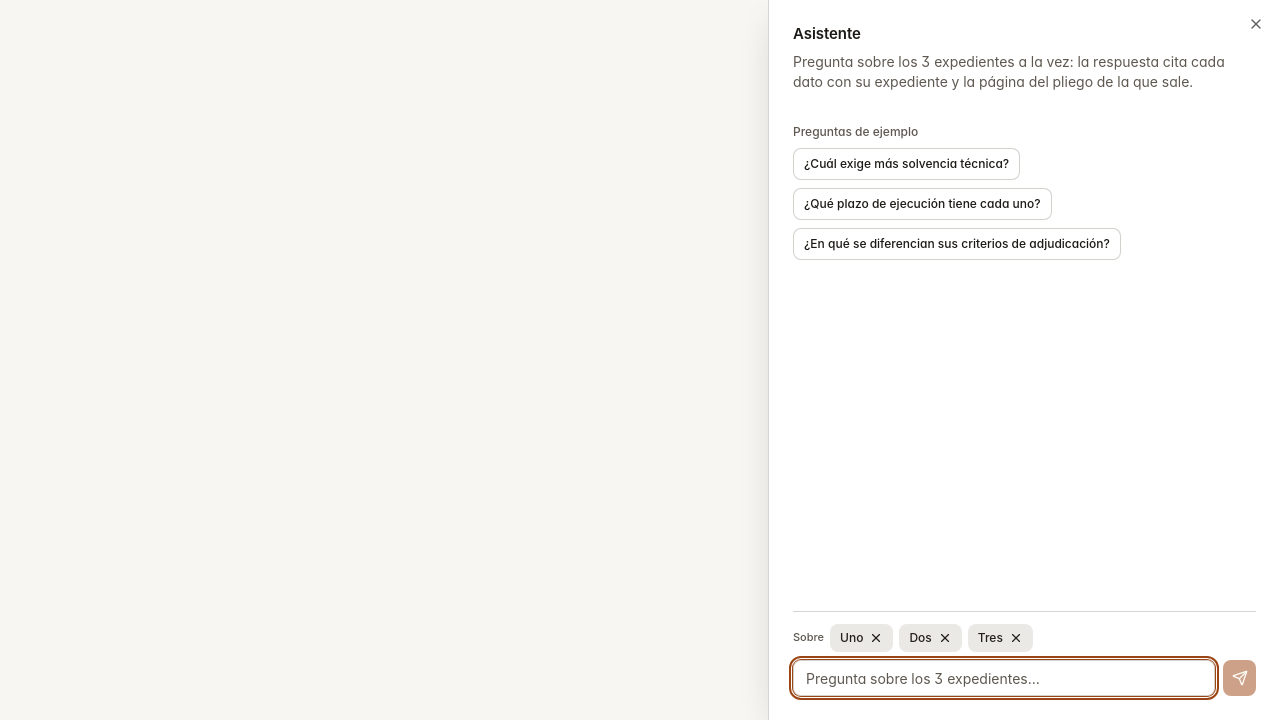
Asistente — comparación › pregunta sobre los tres y avisa de lo que no entró
Expected: the text "Pregunta sobre los 3 expedientes a la vez" is shown, top-left (793, 52), bottom-right (1225, 90)
Type "¿Qué solvencia piden?" into the field named "Pregunta al asistente".
click(1004, 678); type("¿Qué solvencia piden?")  # box top-left (793, 660), bottom-right (1215, 696)
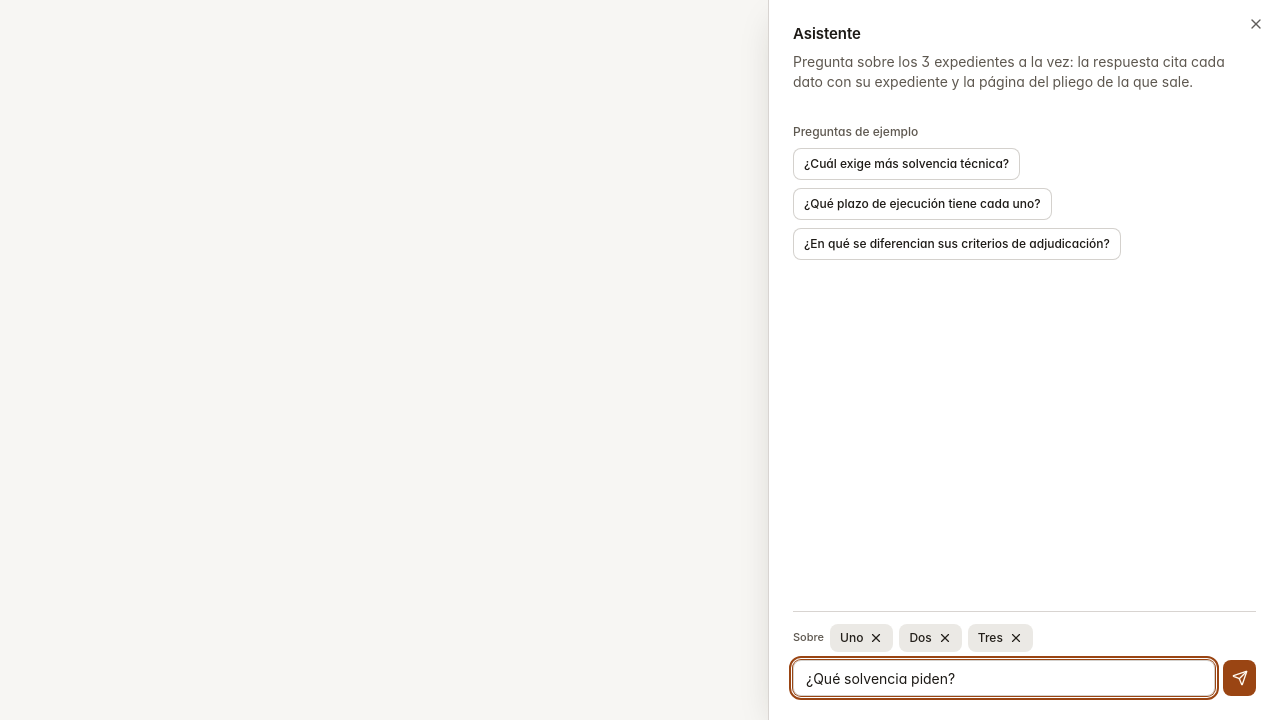
Click the button named "Enviar".
click(1240, 678)  # box top-left (1223, 660), bottom-right (1256, 696)
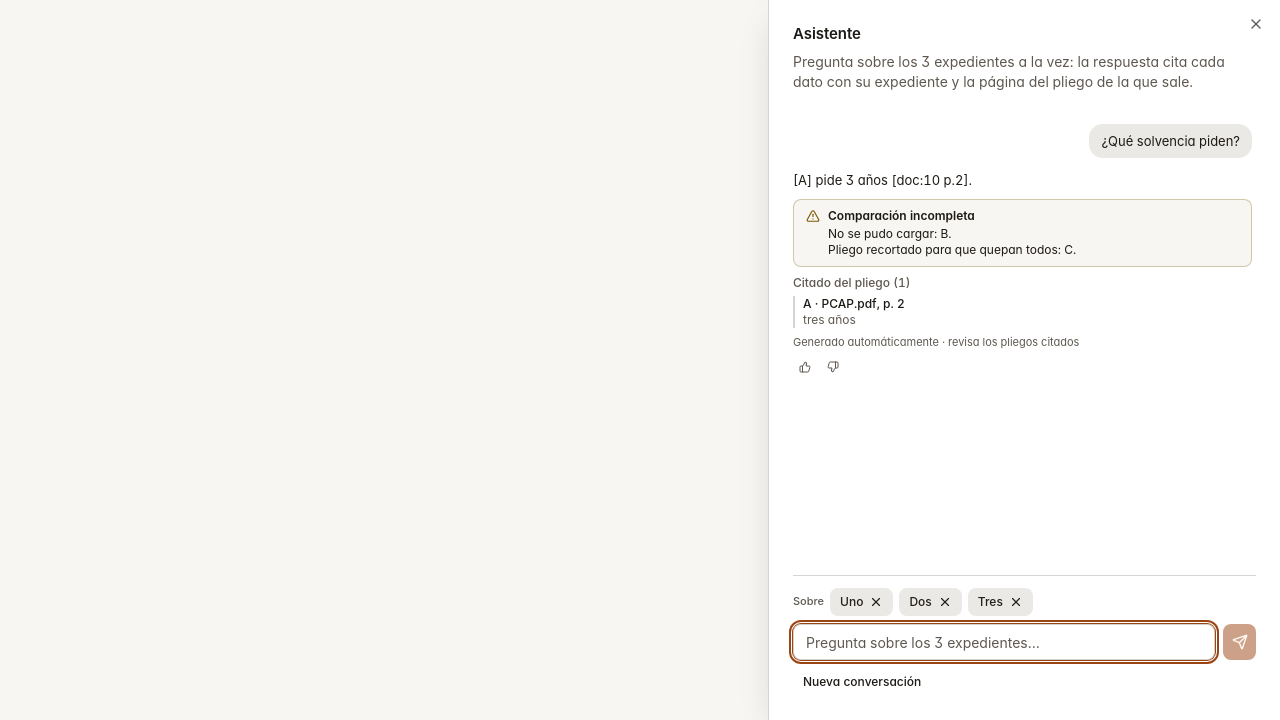
Expected: the text "Comparación incompleta" is shown, top-left (828, 208), bottom-right (975, 223)
Expected: the text "No se pudo cargar: B." is shown, top-left (828, 226), bottom-right (952, 241)
Expected: the text "Pliego recortado para que quepan todos: C." is shown, top-left (828, 242), bottom-right (1076, 257)
